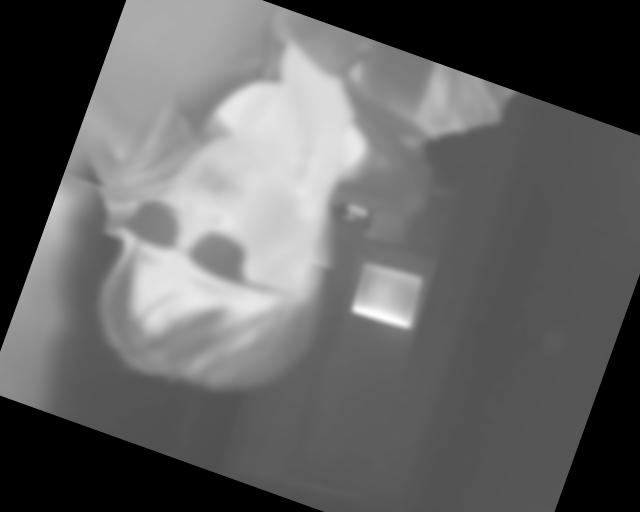face: (82, 113, 370, 424)
